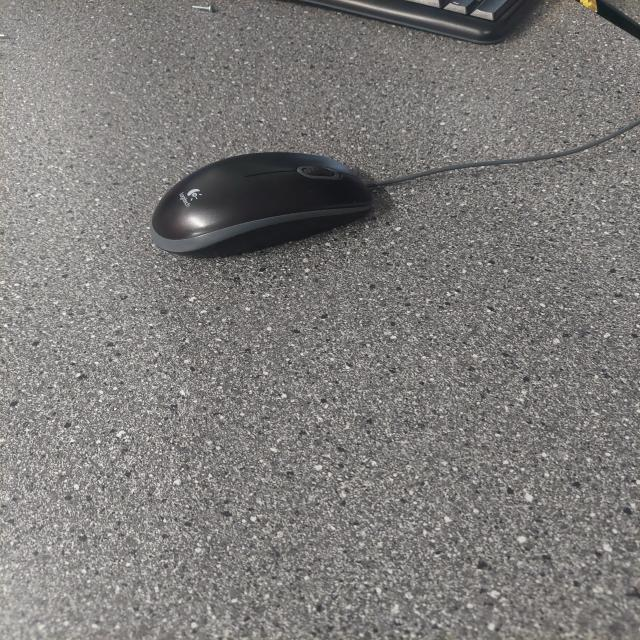mysz: (124, 141, 401, 267)
